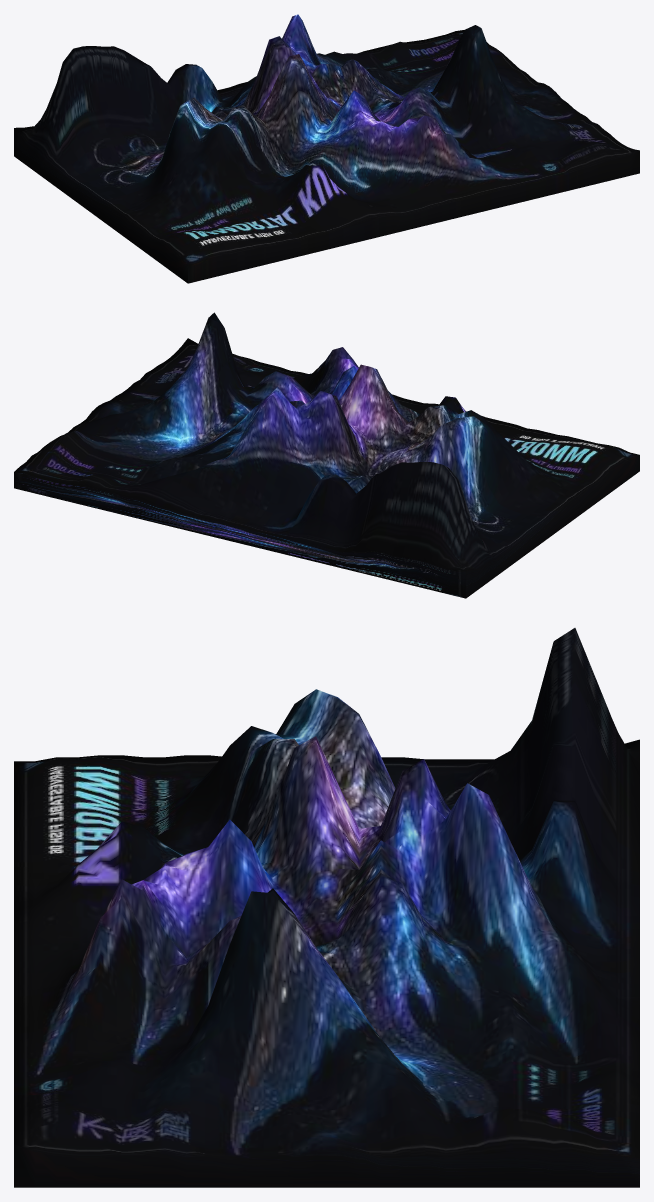
File: FISH_06_Immortal_Kun.glb
3 views of the same model, one above another, from view 1: azimuth 30°, elevation 25°; view 2: azimuth 150°, elevation 25°; view 3: azimuth 270°, elevation 25° (orthographic). The views are drawn at different scales.
Parts seen in each view (by area): view 1: FISH_06_Immortal_Kun; view 2: FISH_06_Immortal_Kun; view 3: FISH_06_Immortal_Kun.
Part boxes in pixels (bbox=[...]): FISH_06_Immortal_Kun: bbox=[14, 14, 639, 283]; FISH_06_Immortal_Kun: bbox=[14, 312, 639, 598]; FISH_06_Immortal_Kun: bbox=[14, 628, 639, 1187].
Bounding box in the file's own units: 2 × 0.51 × 1.33.
Materials: 1 (1 with a texture image).
